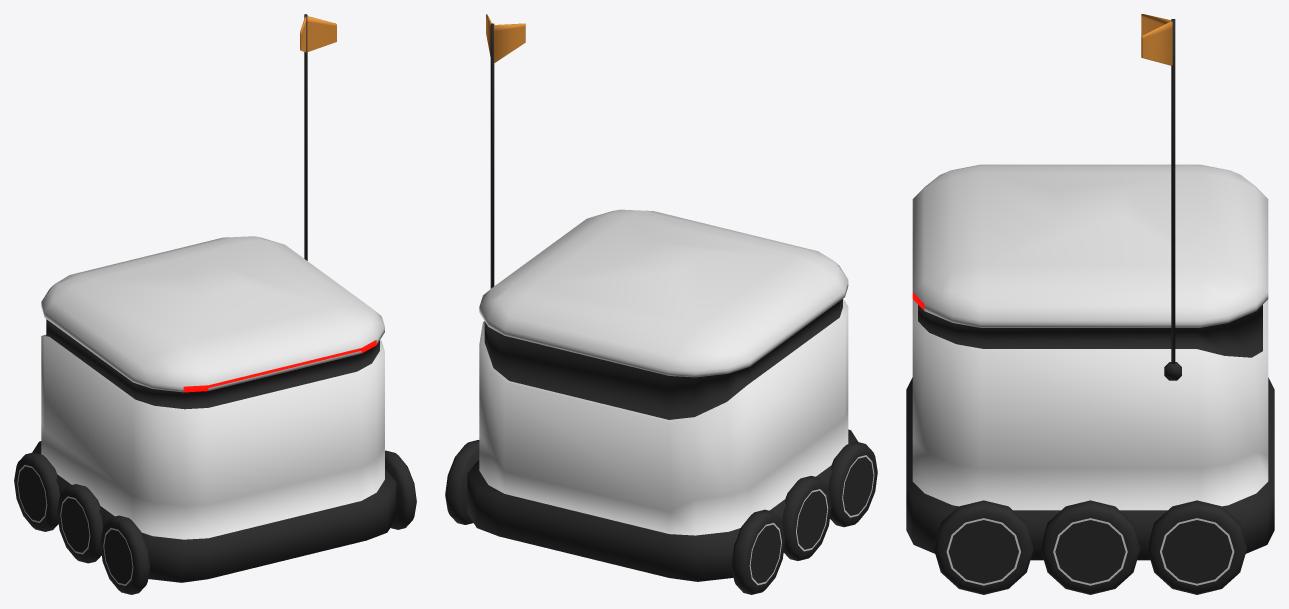
File: tobor.fbx
3 views of the same model, side by side, from view 1: azimuth 30°, elevation 25°; view 2: azimuth 150°, elevation 25°; view 3: azimuth 270°, elevation 25° (orthographic). The views are drawn at different scales.
Parts seen in each view (by area): view 1: Cube; view 2: Cube; view 3: Cube.
Boxes of the visible parts, left/top/right/bottom form: Cube: left=14, top=14, right=416, bottom=594; Cube: left=445, top=14, right=877, bottom=594; Cube: left=906, top=14, right=1274, bottom=594.
Size of the model in its own units: 227 by 352 by 207.
